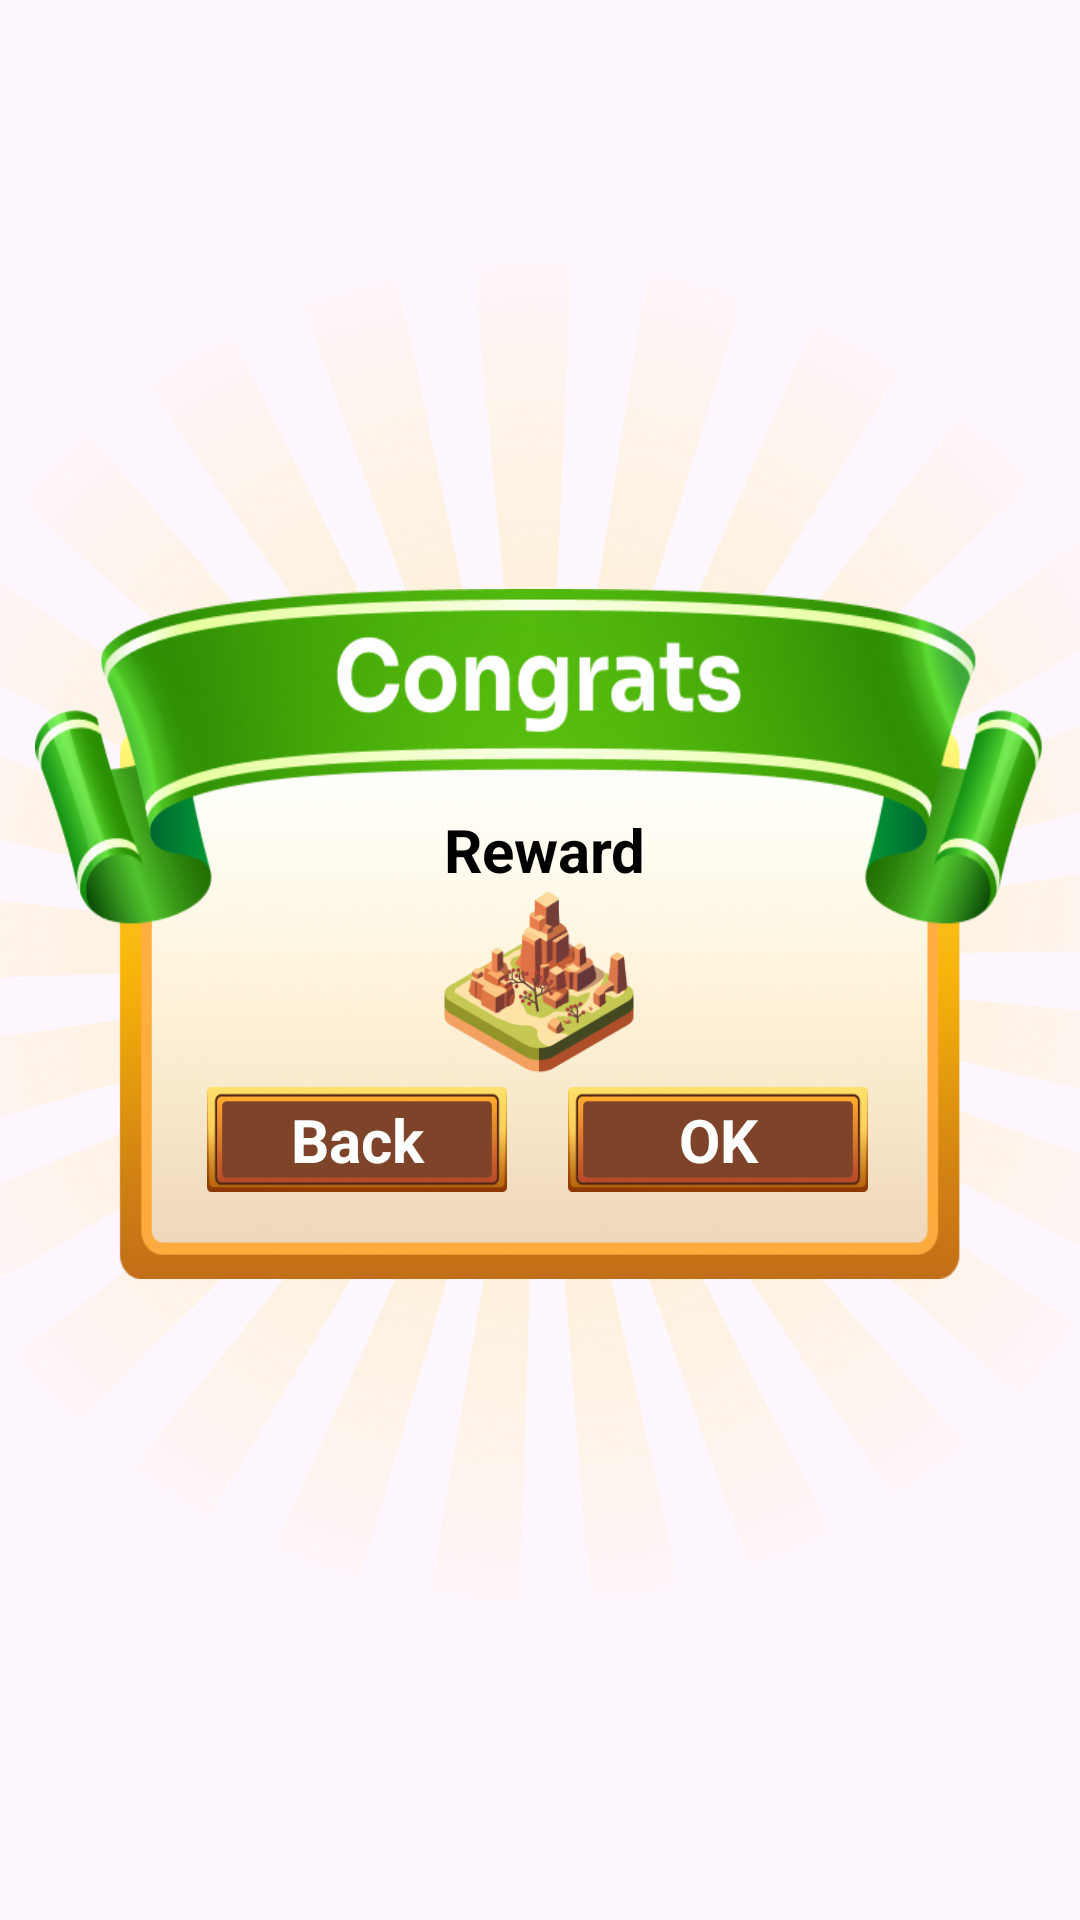

Point at icon controls on the screen. Image size 1080px x 1920px, points as (x,y).
island: (539,982)
